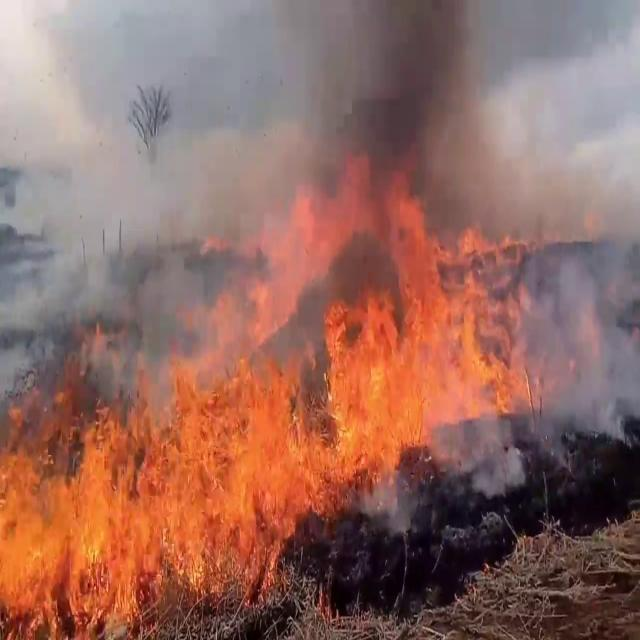Fire: (238, 208, 536, 536), (0, 321, 283, 640)
Smoke: (6, 0, 640, 303), (510, 256, 640, 464)
